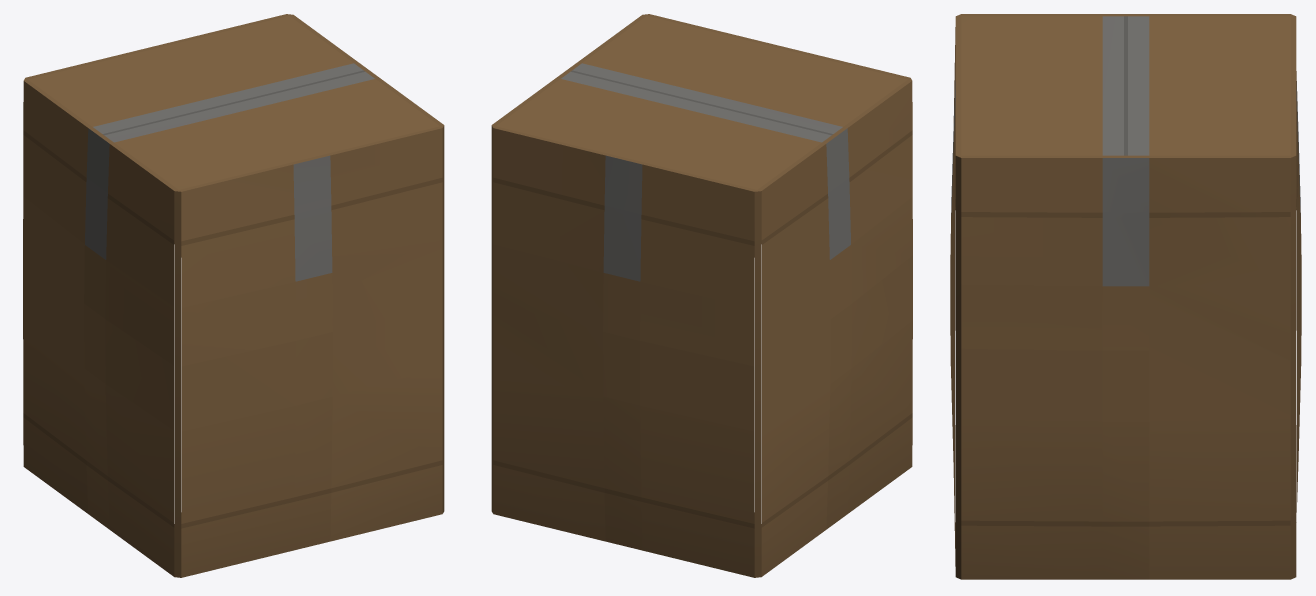
The model's file is box.carton.cross.glb.
3 renders of one model, left to right at view 1: azimuth 30°, elevation 25°; view 2: azimuth 150°, elevation 25°; view 3: azimuth 270°, elevation 25°, orthographic. The views are drawn at different scales.
Parts seen in each view (by area): view 1: box_carton_cross; view 2: box_carton_cross; view 3: box_carton_cross.
Boxes of the visible parts, x1=… form: box_carton_cross: x1=23, y1=14, x2=444, y2=577; box_carton_cross: x1=491, y1=14, x2=912, y2=577; box_carton_cross: x1=950, y1=14, x2=1301, y2=579.
Size of what is drawn, in the model's own units: 0.378 by 0.5 by 0.378.
